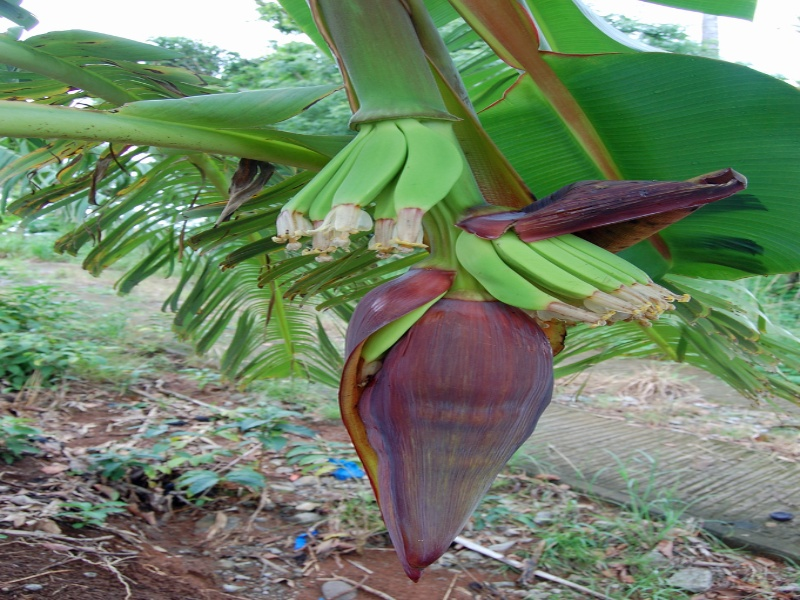banana: (460, 216, 681, 341), (266, 116, 466, 246)
